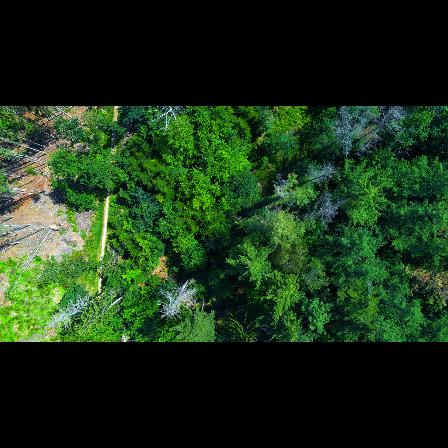Dead: (39, 292, 98, 332), (157, 276, 202, 323), (294, 193, 343, 225), (147, 106, 194, 139), (331, 111, 366, 154), (367, 108, 409, 139)
